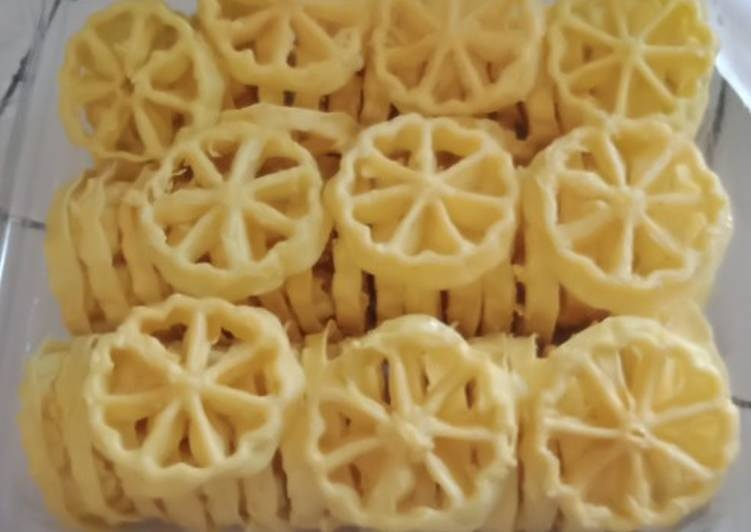kembang_goyang: (530, 107, 740, 305), (84, 293, 294, 489), (132, 107, 324, 304), (334, 110, 519, 300)
